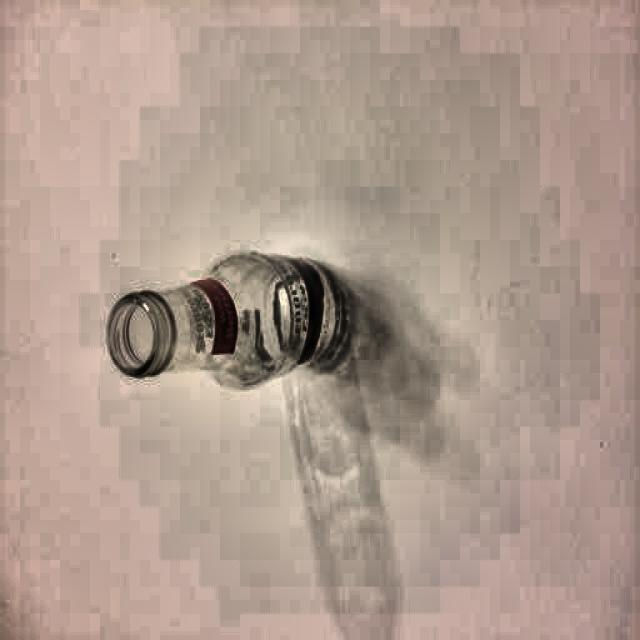glass: (107, 248, 353, 396)
